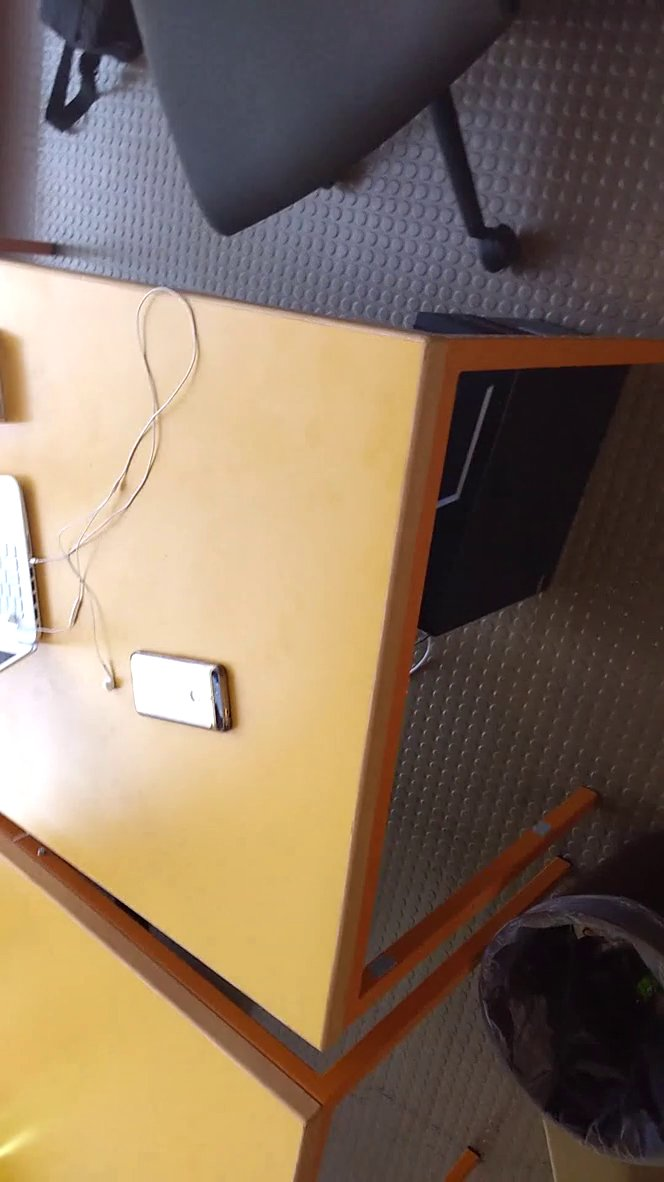phone: (120, 641, 257, 750)
